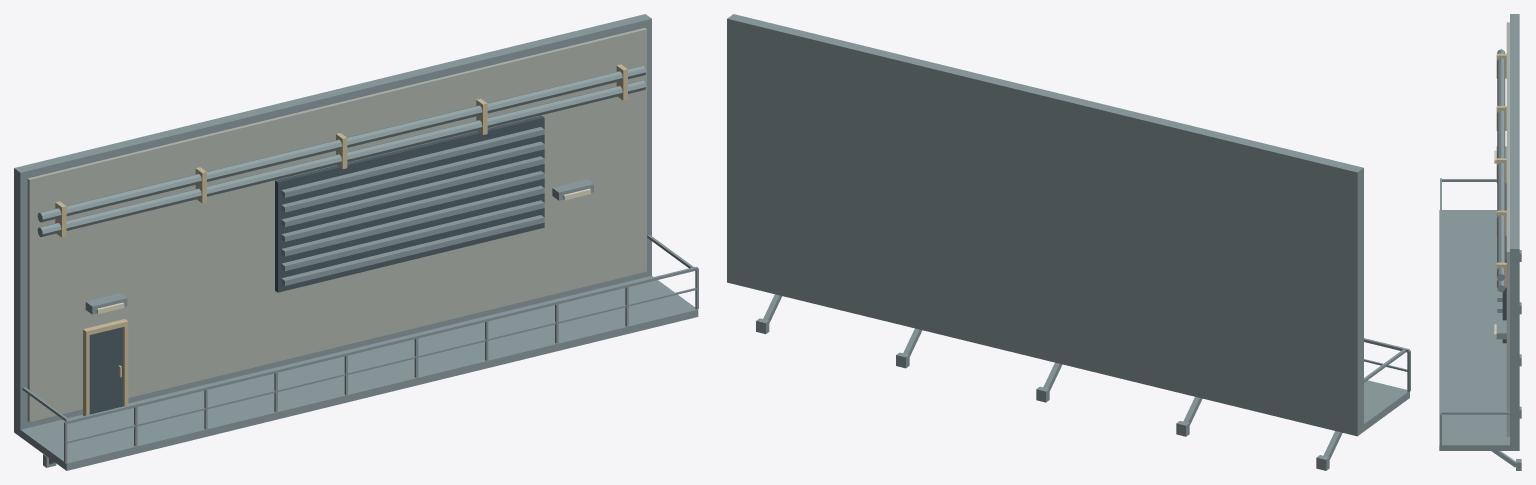
File: bulkhead-service.glb
3 renders of one model, left to right at view 1: azimuth 30°, elevation 25°; view 2: azimuth 150°, elevation 25°; view 3: azimuth 270°, elevation 25°, orthographic. The views are drawn at different scales.
Parts seen in each view (by area): view 1: bulkhead_service_lod0; view 2: bulkhead_service_lod0; view 3: bulkhead_service_lod0.
Boxes of the visible parts, x1=… form: bulkhead_service_lod0: x1=14, y1=14, x2=698, y2=470; bulkhead_service_lod0: x1=727, y1=14, x2=1410, y2=470; bulkhead_service_lod0: x1=1439, y1=14, x2=1521, y2=470.
Size of what is drawn, in the model's own units: 18.07 by 8.32 by 2.66.
